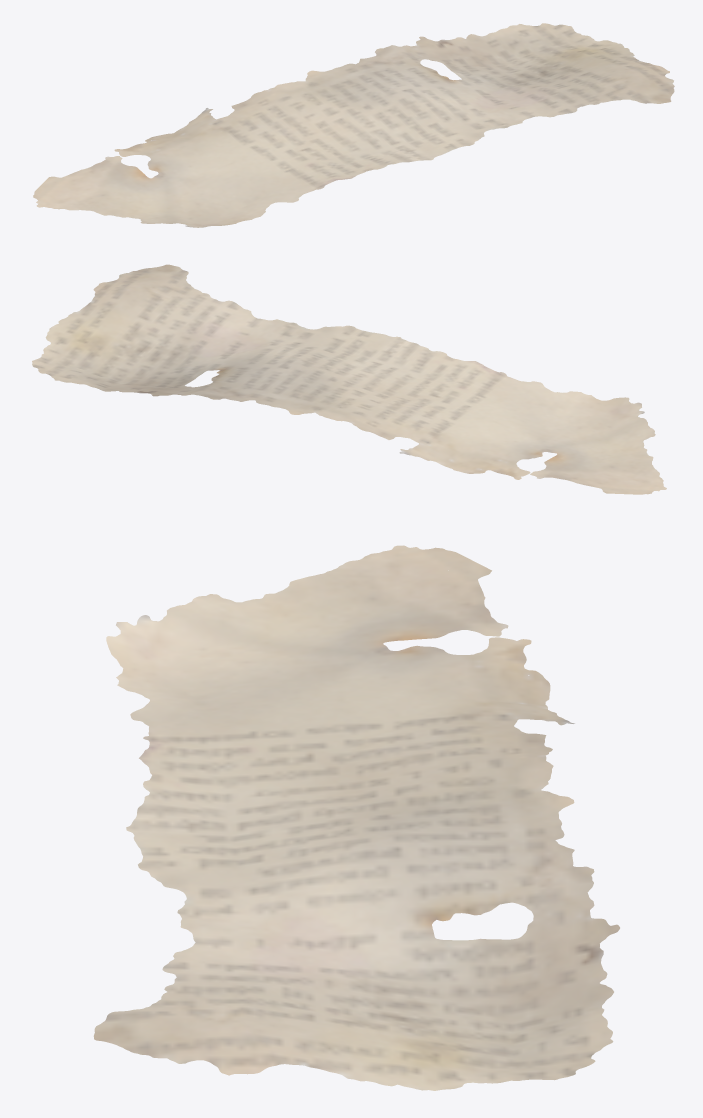
The model's file is SM_Paper_016.fbx.
The picture shows the model from 3 angles, top to bottom: view 1: azimuth 30°, elevation 25°; view 2: azimuth 150°, elevation 25°; view 3: azimuth 270°, elevation 25°; orthographic projection. The views are drawn at different scales.
Parts seen in each view (by area): view 1: SM_Paper_016; view 2: SM_Paper_016; view 3: SM_Paper_016.
Boxes of the visible parts, <box> form: SM_Paper_016: <box>33,23,674,227</box>; SM_Paper_016: <box>32,264,666,494</box>; SM_Paper_016: <box>93,545,619,1090</box>.
Bounding box in the file's own units: 42.31 × 17.08 × 2.
Materials: 1 (1 with a texture image).
